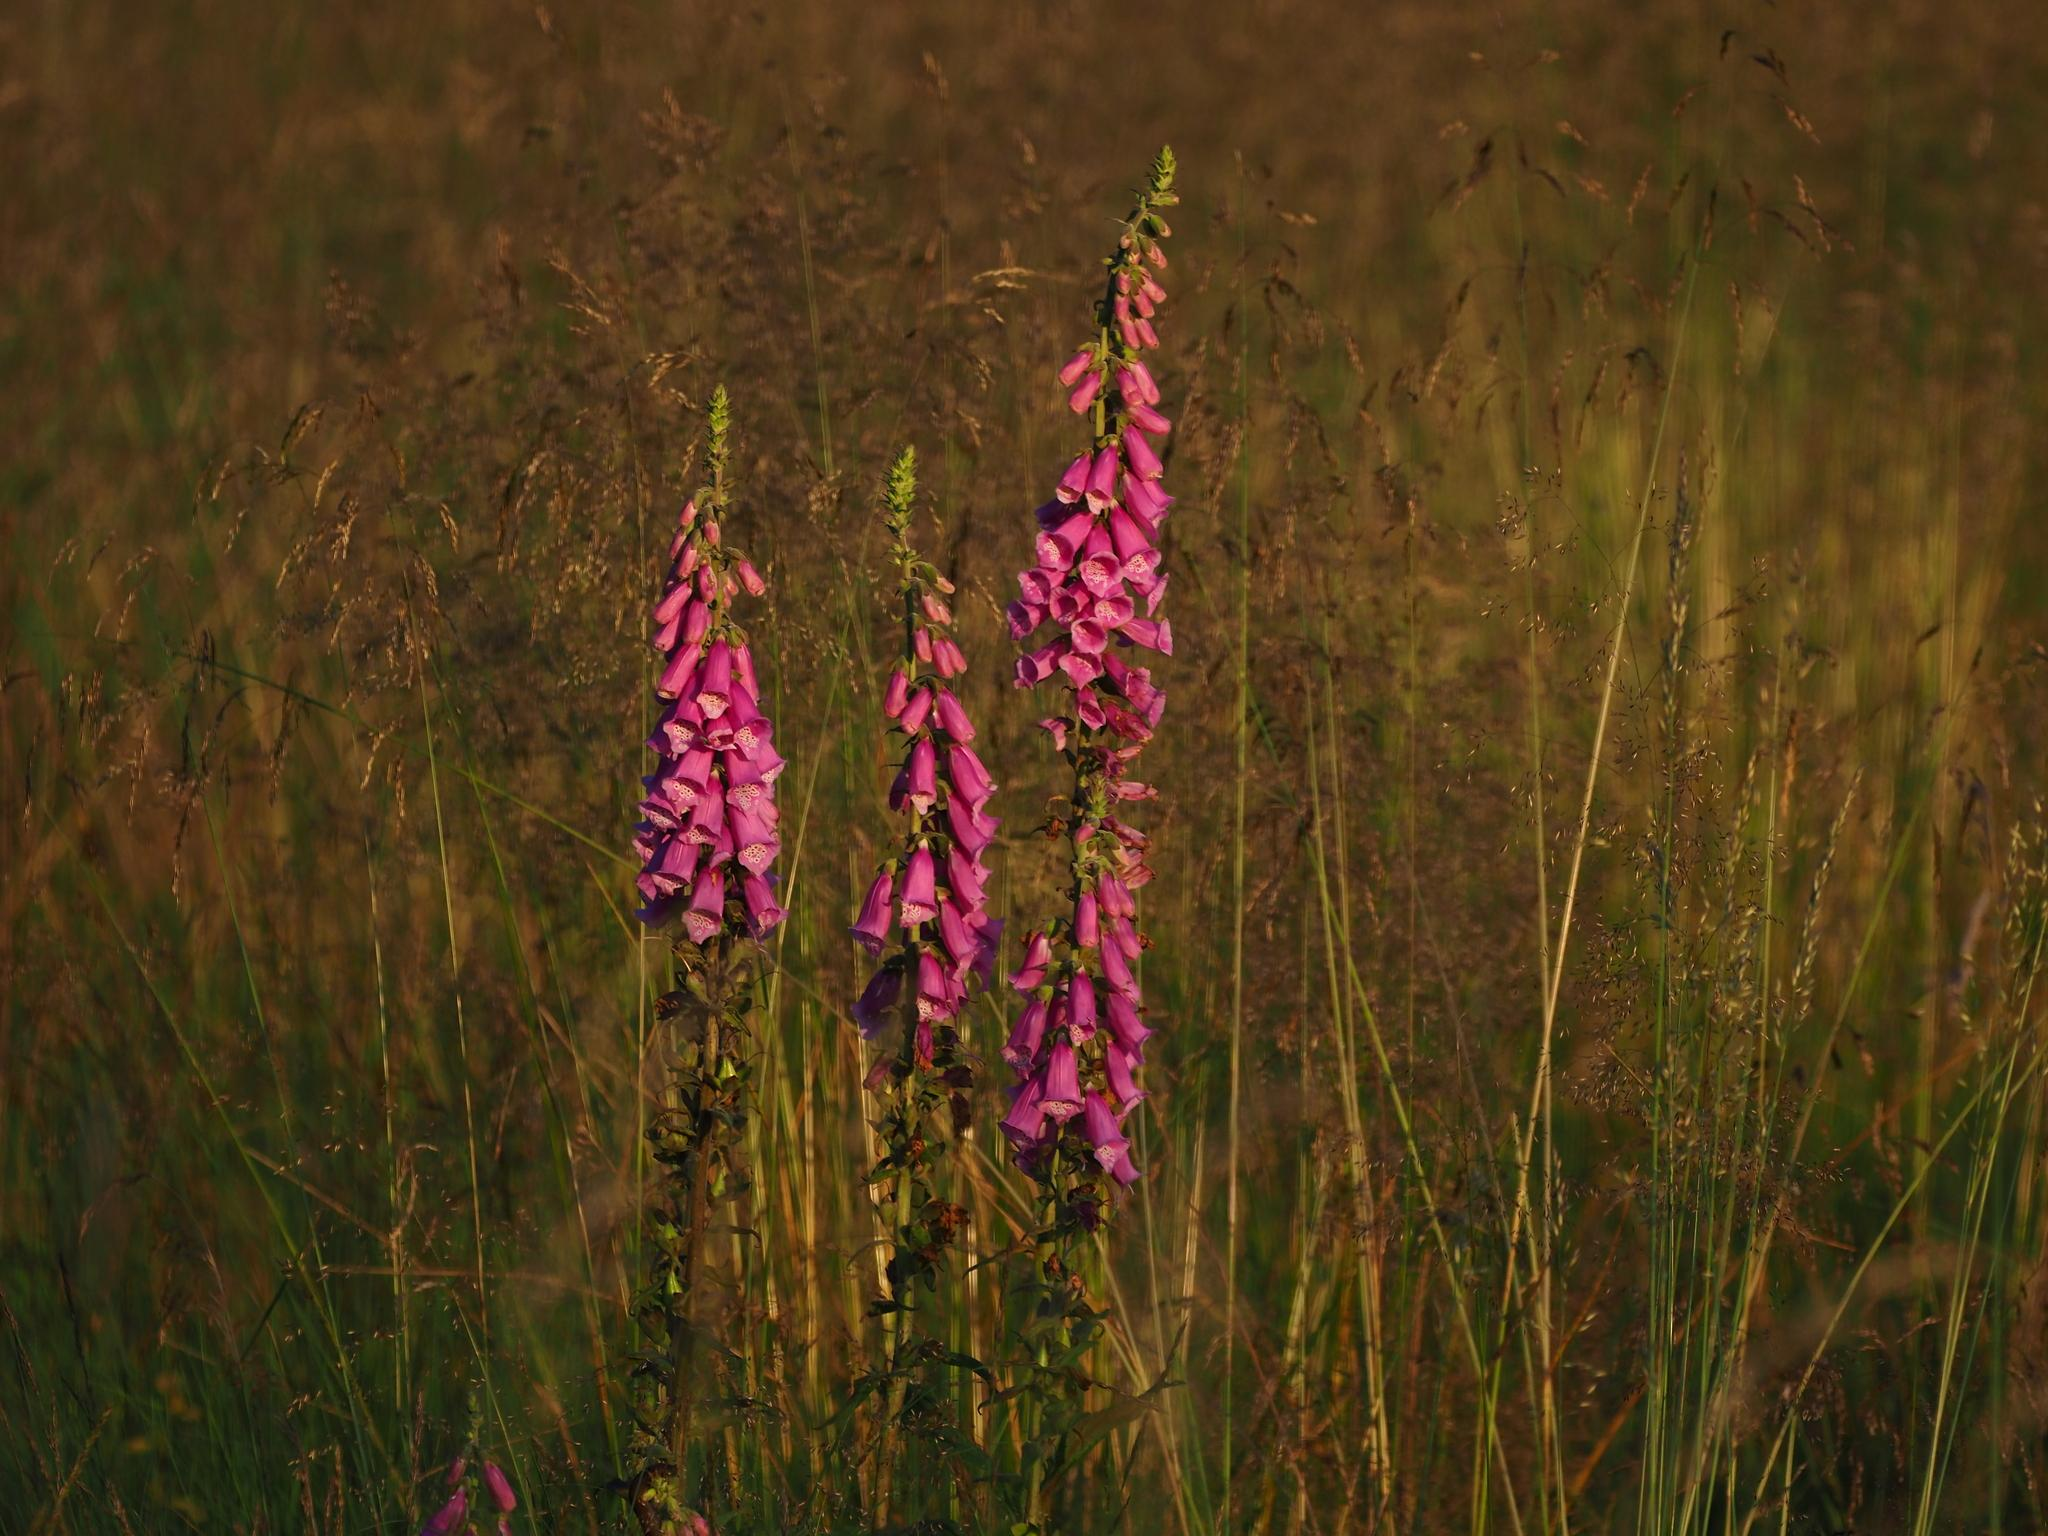Digitalis L: (987, 148, 1214, 1497), (634, 384, 808, 1512), (847, 458, 997, 1504)
